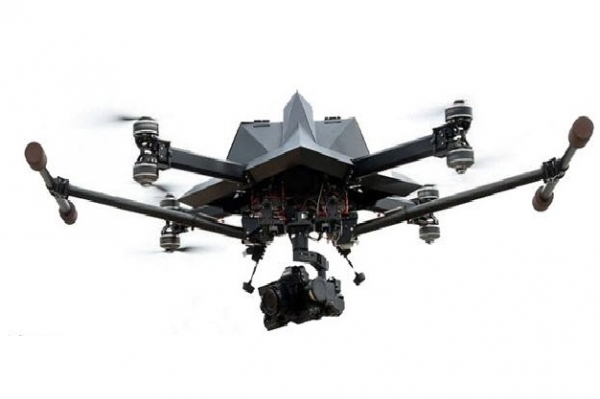drone: (18, 85, 597, 335)
